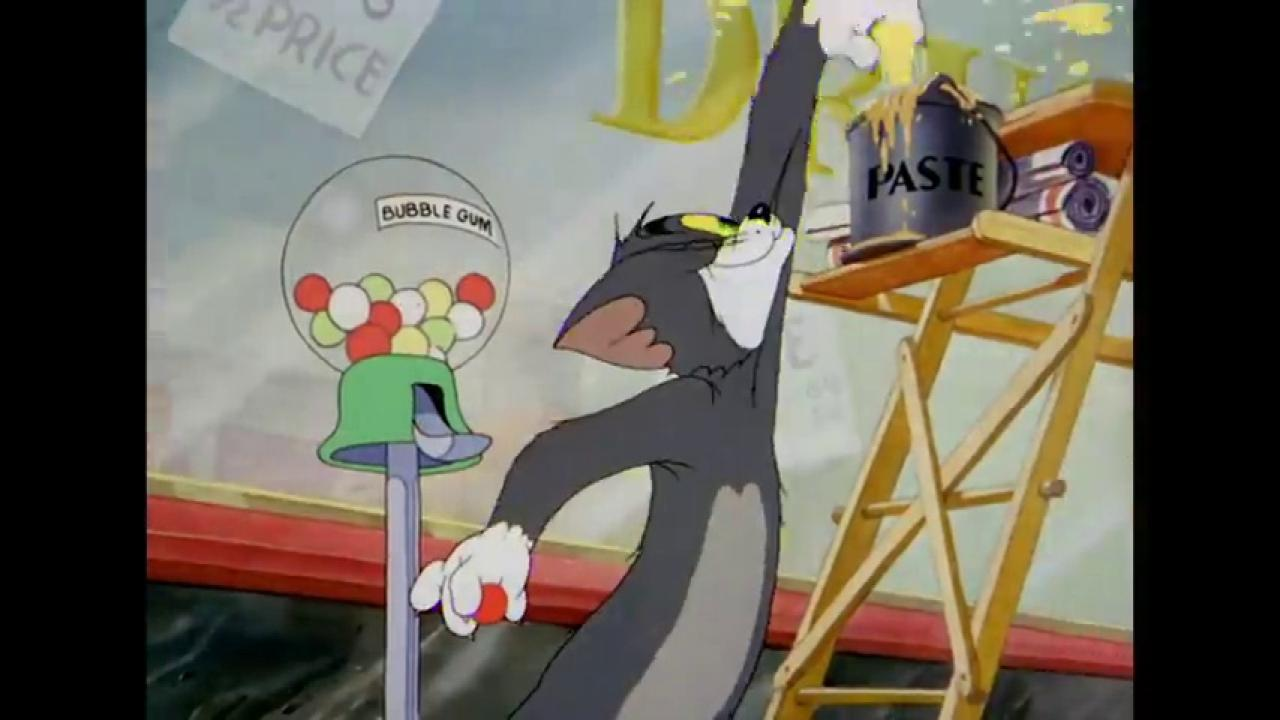Tom: (406, 0, 929, 720)
